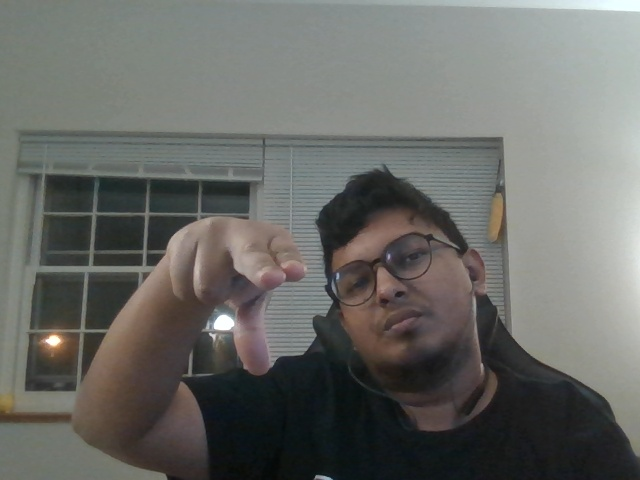no: (151, 206, 320, 392)
